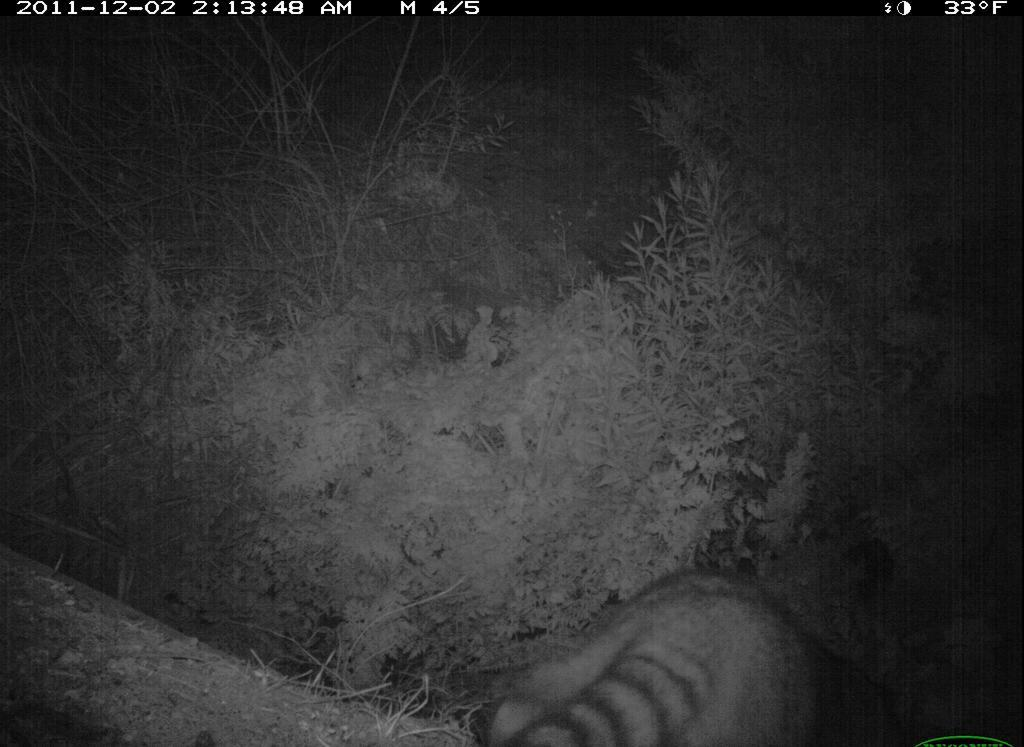raccoon: (456, 559, 913, 747)
